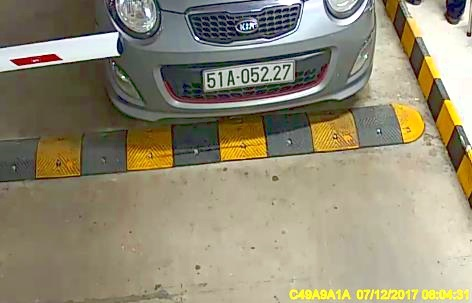plate: (199, 59, 294, 90)
